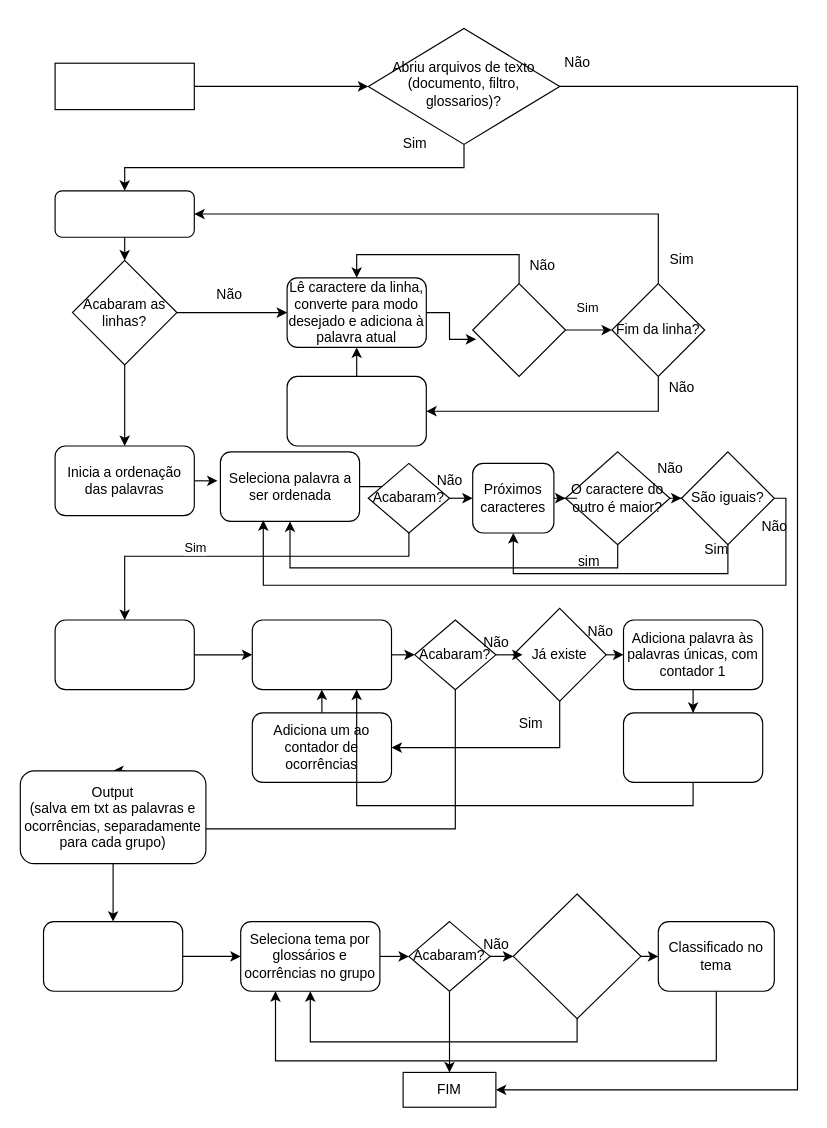
The diagram is 827 pixels wide and 1128 high, and some of its shapes have lost their labels. Each missing label, with the box of its shape:
Adiciona palavra à lista de palavras e inicia uma nova: (286, 375, 426, 446)
Caractere indica fim de palavra?: (472, 282, 566, 376)
Classificação de temas: (42, 920, 183, 991)
Compara com palavras dos glossários e determina grupo: (622, 712, 763, 782)
Inicia seleção de palavras únicas, de grupo e contagem: (54, 619, 194, 690)
Inicio: (54, 62, 194, 110)
Lê linha: (54, 190, 194, 237)
Lê palavra e compara com palavras únicas: (251, 619, 392, 690)
Porcentagem de ocorrência de palavras-chave é maior que valor escolhido?: (512, 893, 641, 1019)
